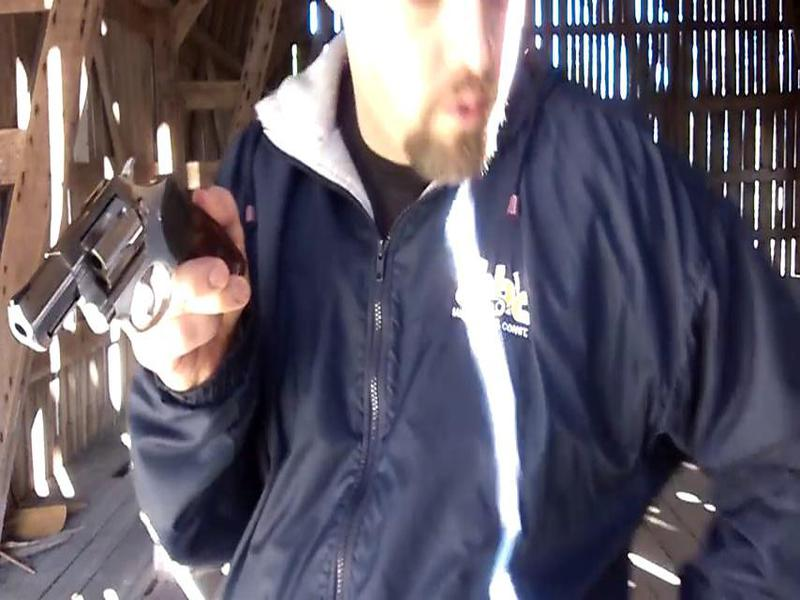Revolver: (1, 163, 257, 348)
